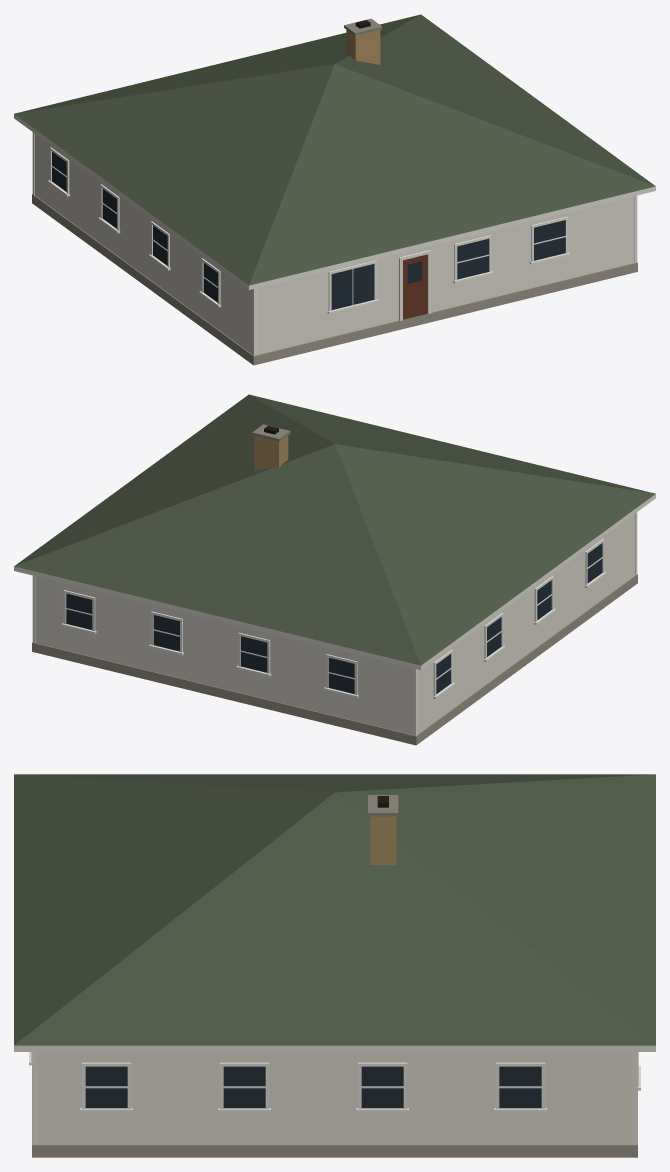
File: ranch-house-0002.glb
3 renders of one model, top to bottom at view 1: azimuth 30°, elevation 25°; view 2: azimuth 150°, elevation 25°; view 3: azimuth 270°, elevation 25°, orthographic. The views are drawn at different scales.
Parts seen in each view (by area): view 1: house_roof, house_wall, house_trim, house_foundation, house_glass, house_door, house_chimney; view 2: house_roof, house_wall, house_trim, house_foundation, house_glass, house_chimney; view 3: house_roof, house_wall, house_trim, house_foundation, house_glass, house_chimney, house_chimneycap.
Boxes of the visible parts, x1,y1,x2,y2 form: house_roof: (14,14,655,285); house_wall: (35,134,633,354); house_trim: (14,114,655,355); house_foundation: (32,194,637,365); house_glass: (52,152,565,309); house_door: (403,254,427,319); house_chimney: (346,29,380,64); house_roof: (14,394,655,665); house_wall: (36,514,634,734); house_trim: (14,494,655,735); house_foundation: (32,574,637,745); house_glass: (66,543,602,693); house_chimney: (254,435,288,470); house_roof: (14,774,655,1045); house_wall: (37,1052,632,1144); house_trim: (14,1045,655,1144); house_foundation: (32,1065,637,1157); house_glass: (85,1066,541,1108); house_chimney: (370,816,396,864); house_chimneycap: (368,795,398,816).
Size of the model in its own units: 14.9 by 6.67 by 14.89.
